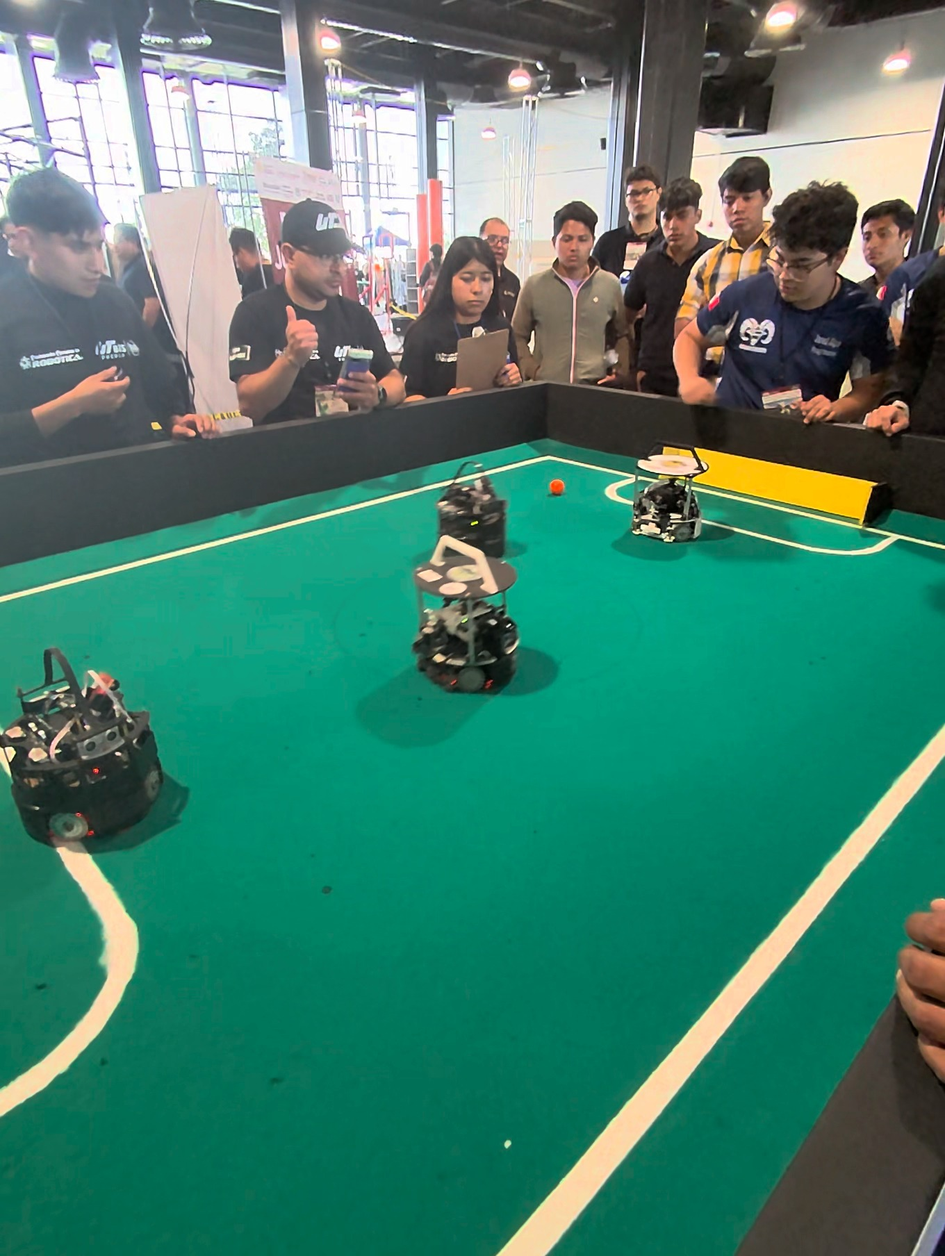Robot: (1, 640, 165, 855), (409, 534, 524, 700), (625, 435, 706, 552), (437, 452, 511, 542)
pelota: (550, 478, 568, 496)
